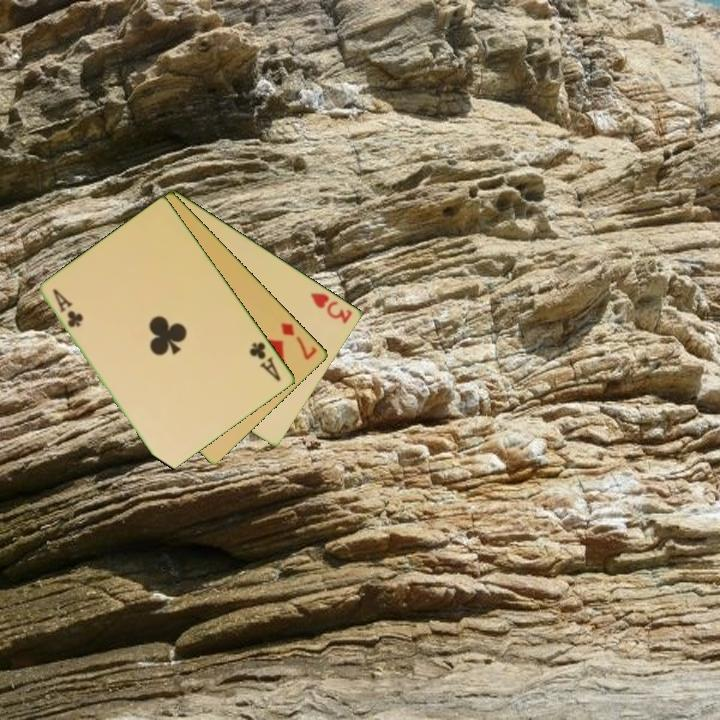3h: (307, 289, 356, 326)
7d: (277, 319, 320, 363)
Ac: (246, 338, 284, 384), (49, 285, 87, 331)
